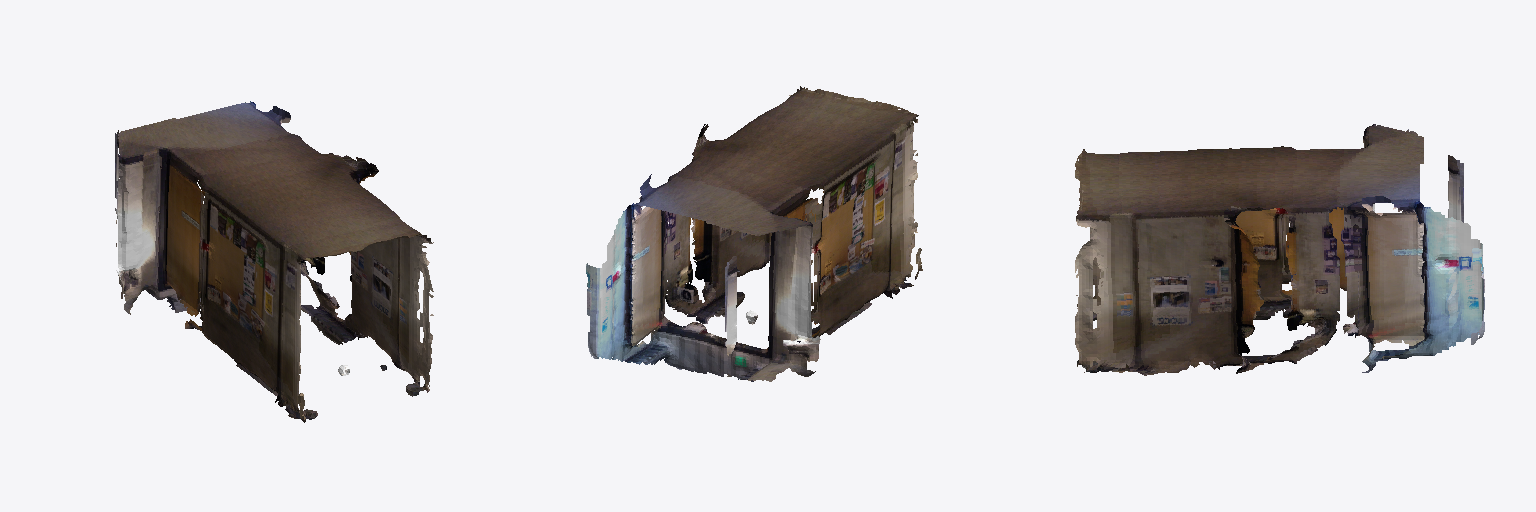
3 renders of one model, left to right at view 1: azimuth 30°, elevation 25°; view 2: azimuth 150°, elevation 25°; view 3: azimuth 270°, elevation 25°, orthographic.
Bounding box in the file's own units: 3.91 × 3.72 × 7.29.
Materials: 1 (1 with a texture image).